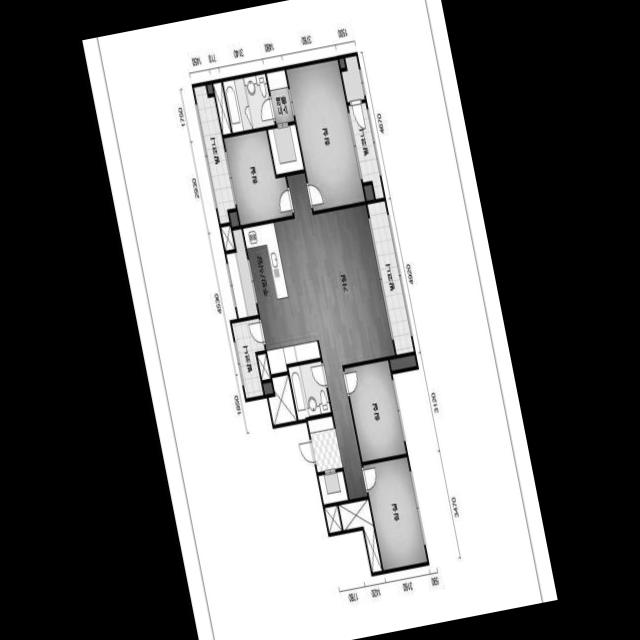background: (82, 0, 558, 640)
space_balconi: (368, 201, 414, 354), (194, 85, 236, 223), (348, 102, 384, 198), (232, 318, 265, 397)
space_bedroom: (286, 59, 365, 211), (363, 457, 427, 569), (224, 130, 293, 224), (344, 360, 406, 461)
space_dressroom: (267, 69, 304, 173)
space_front: (308, 416, 348, 504)
space_kitchen: (243, 219, 320, 373)
space_living_room: (287, 172, 395, 498)
space_other: (339, 499, 382, 572), (227, 228, 258, 318), (269, 374, 297, 424), (342, 55, 365, 102), (213, 82, 231, 134), (325, 505, 342, 533), (390, 354, 416, 370), (257, 353, 271, 381), (221, 224, 235, 251), (364, 184, 375, 201), (229, 210, 239, 226), (263, 381, 274, 394), (207, 83, 213, 93), (339, 58, 345, 68)
space_toilet: (223, 73, 275, 132), (288, 360, 331, 420)
